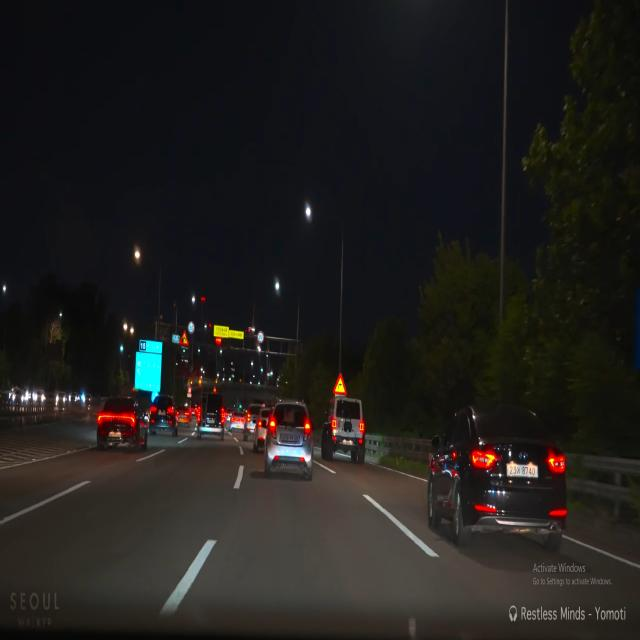headlights: (54, 393, 67, 405), (11, 392, 26, 402), (34, 392, 46, 403)
